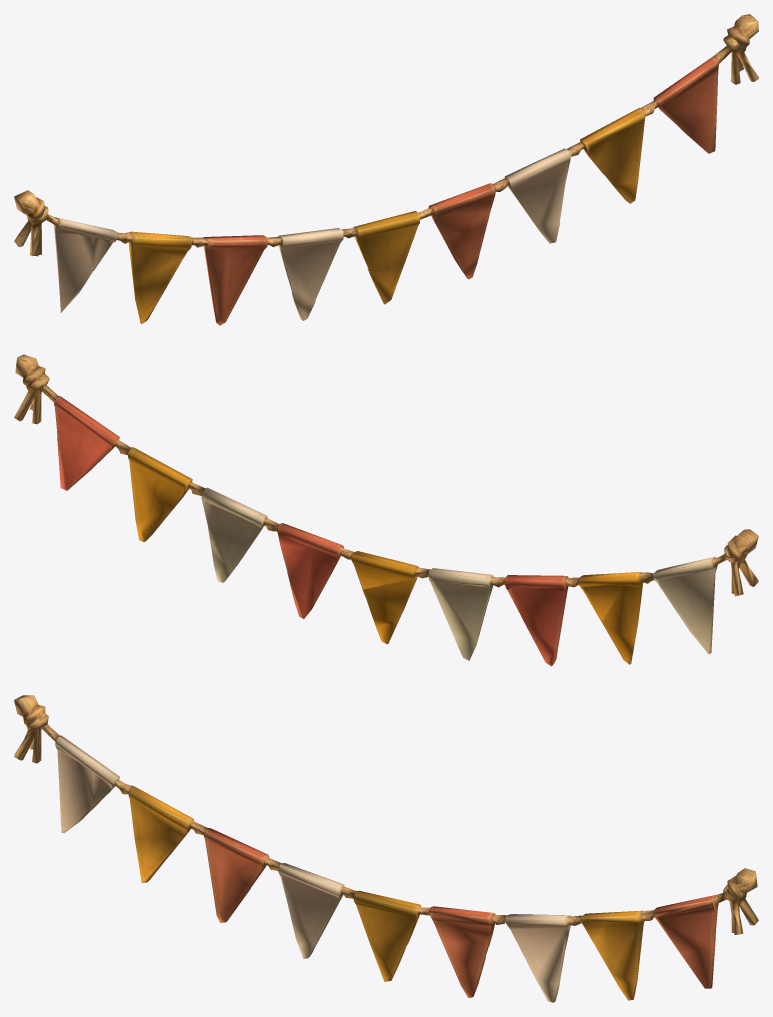
The model's file is bunting.glb.
The picture shows the model from 3 angles, top to bottom: view 1: azimuth 30°, elevation 25°; view 2: azimuth 150°, elevation 25°; view 3: azimuth 330°, elevation 25°; orthographic projection.
Parts seen in each view (by area): view 1: Mesh1.0; view 2: Mesh1.0; view 3: Mesh1.0.
Boxes of the visible parts, x1,y1,x2,y2 form: Mesh1.0: (14,14,758,325); Mesh1.0: (14,354,758,666); Mesh1.0: (14,695,758,1002).
Bounding box in the file's own units: 1.88 × 0.4887 × 0.0869.
1 material, 1 textured.
